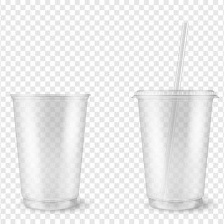drinking_straw: (151, 14, 193, 207)
glass: (126, 77, 223, 215), (4, 89, 96, 214)
